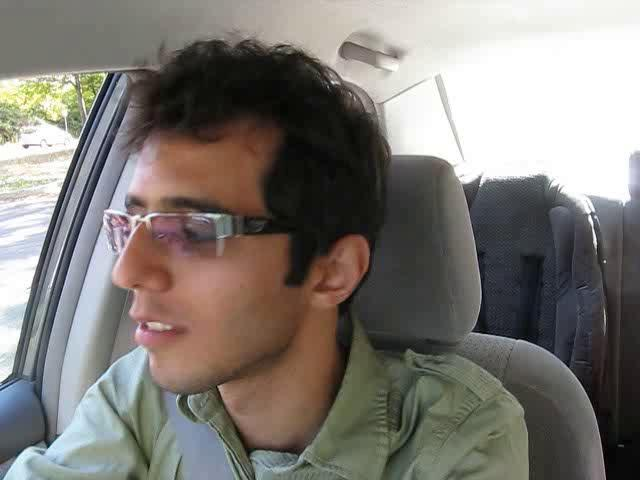close_eyeR: (159, 213, 230, 260)
no_yawn: (118, 309, 199, 352)
